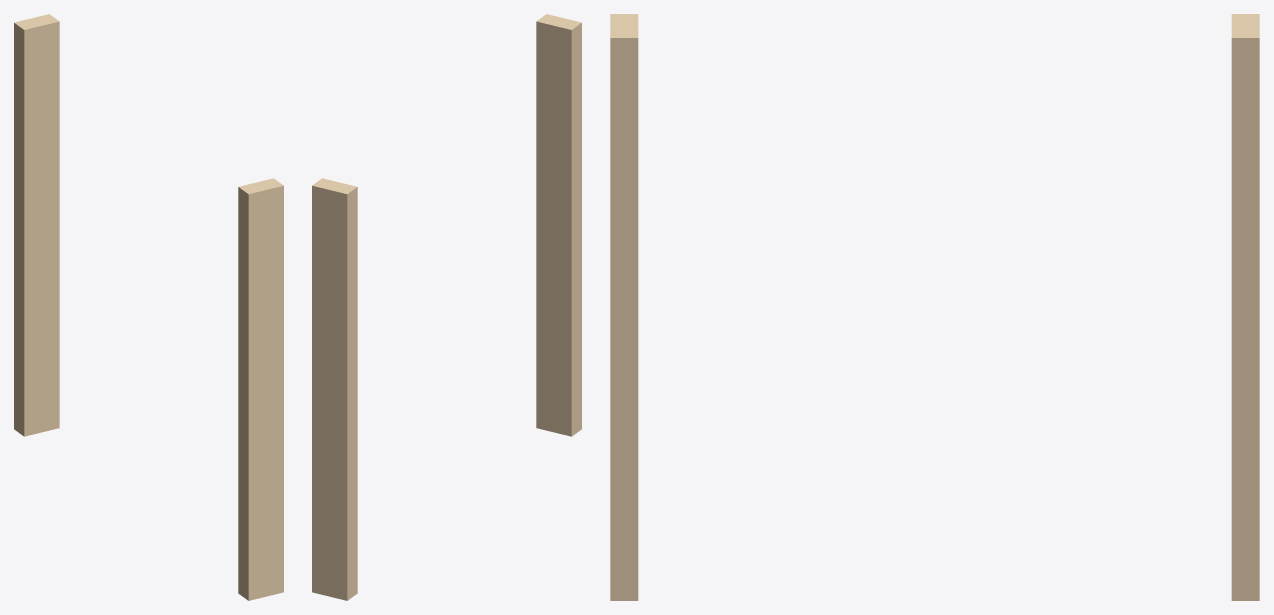
File: Supports.dae
3 renders of one model, left to right at view 1: azimuth 30°, elevation 25°; view 2: azimuth 150°, elevation 25°; view 3: azimuth 270°, elevation 25°, orthographic. The views are drawn at different scales.
Parts seen in each view (by area): view 1: Generic Structure Piece.014; view 2: Generic Structure Piece.014; view 3: Generic Structure Piece.014.
Boxes of the visible parts, left/top/right/bottom form: Generic Structure Piece.014: left=14, top=14, right=283, bottom=600; Generic Structure Piece.014: left=312, top=14, right=581, bottom=600; Generic Structure Piece.014: left=610, top=14, right=1259, bottom=600.
Size of the model in its own units: 0.0508 by 0.5842 by 0.5588.
